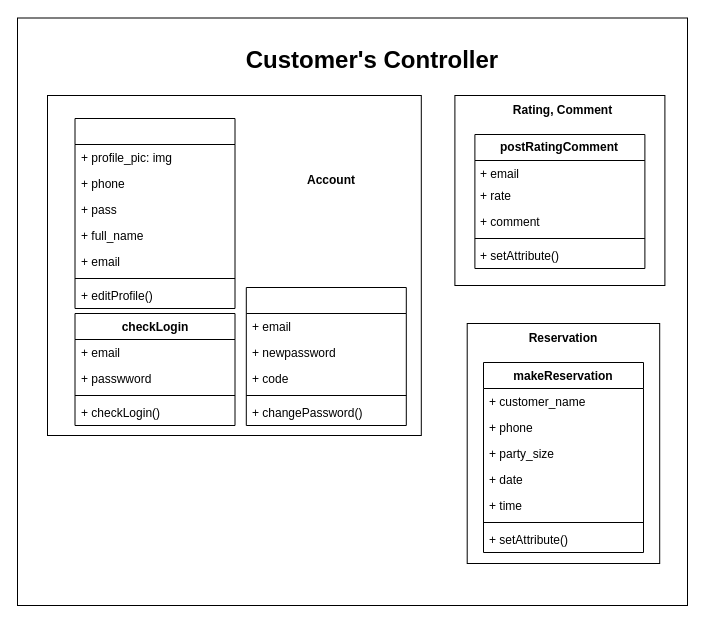
This 705x623 diagram has some shape labels left out. The box of each missing label's shape, as (x1, y1, x2, y2) in pixels:
EditAccountInfo: (74, 118, 235, 308)
ForgotPassword: (245, 286, 406, 426)
